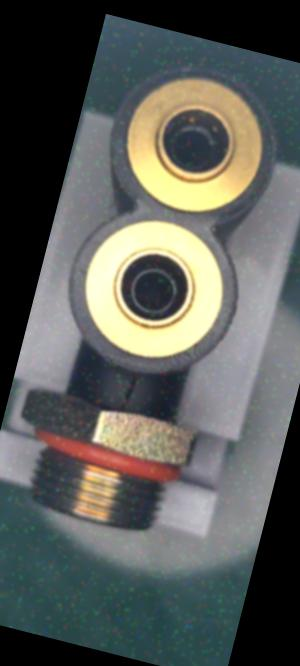craze: (116, 371, 143, 415)
